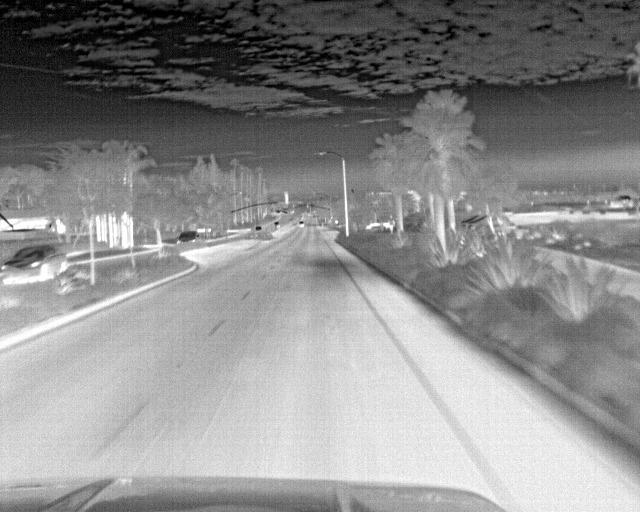car: (0, 245, 71, 283), (173, 229, 200, 246)
